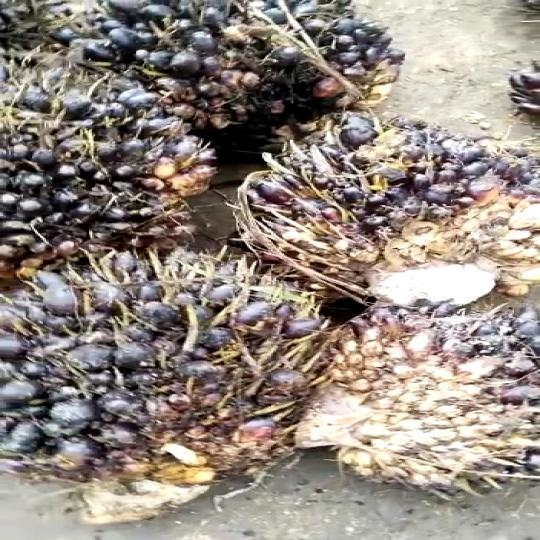mentah: (1, 250, 338, 530), (0, 36, 213, 281), (252, 117, 540, 290), (304, 291, 540, 496), (31, 0, 402, 112)
